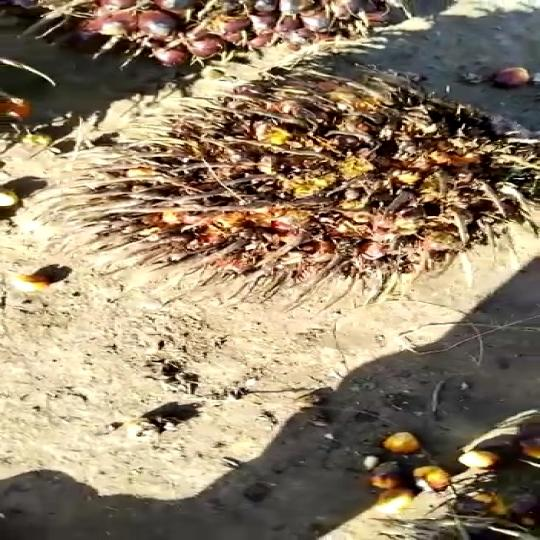terlalu masak: (65, 57, 540, 316)
